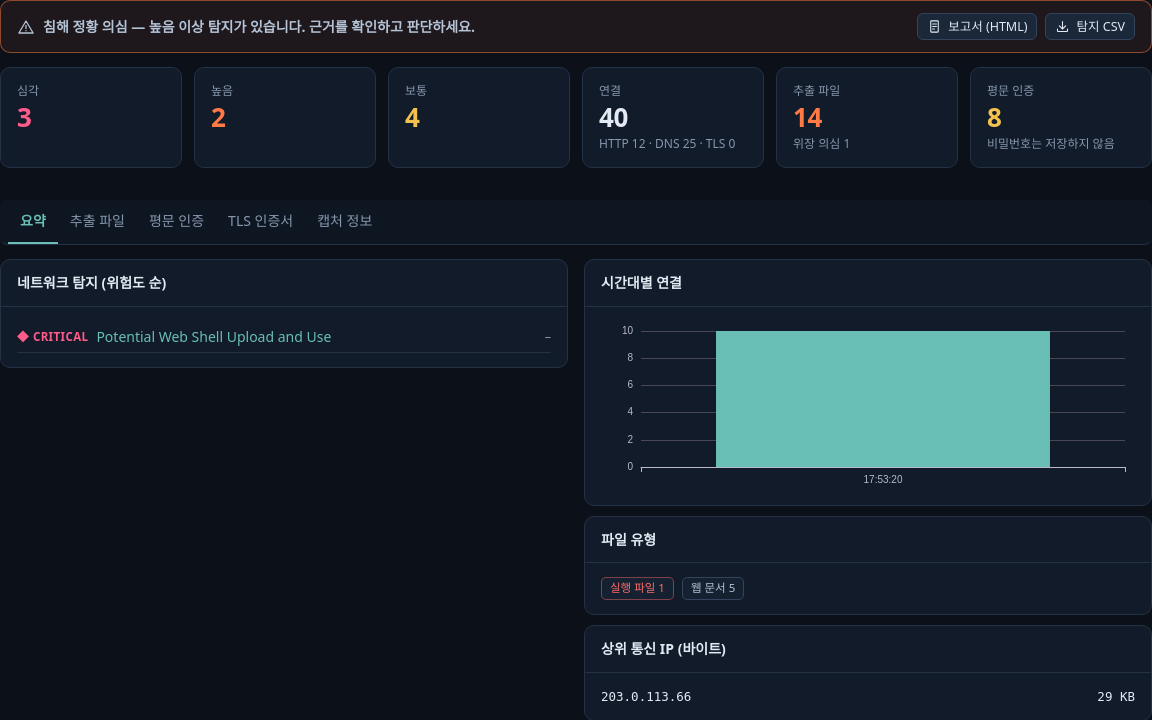
Scenario: PCAP forensics tab › shows capture details
Click the tab "캡처 정보" at (345, 222), box [305,200,384,244]
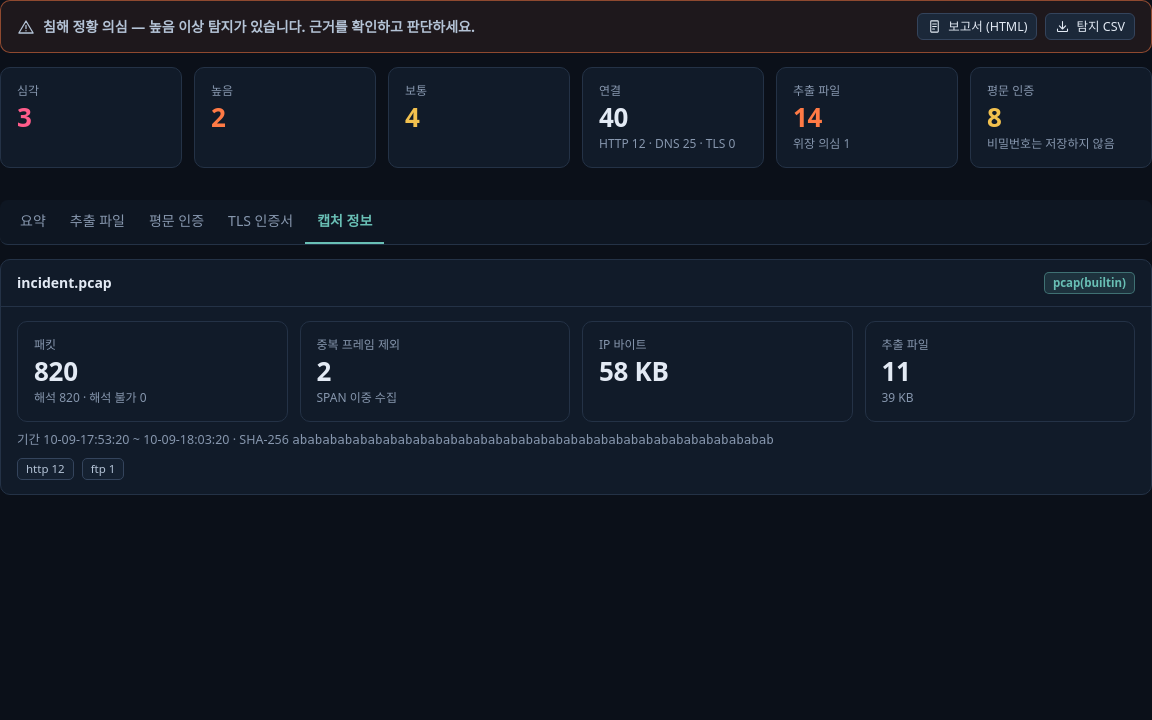
Now the text "incident.pcap" is shown, box [17,273,112,292]
Now the text "http 12" is shown, box [17,458,74,480]
